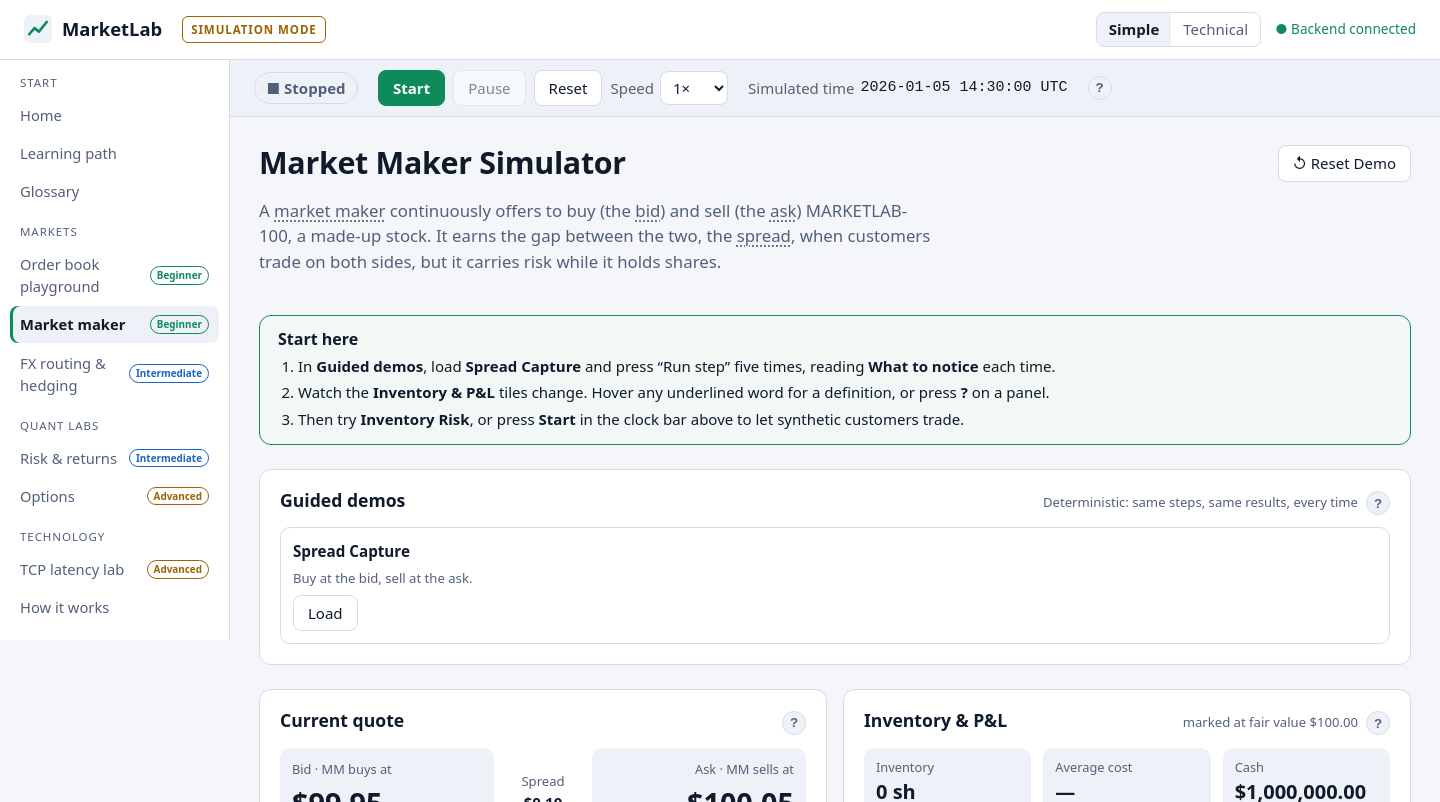
Test: Market maker page › loads a preset, runs a step and shows what to notice
Click the button "Load" at coordinates (325, 613), box 293,595 -> 358,631
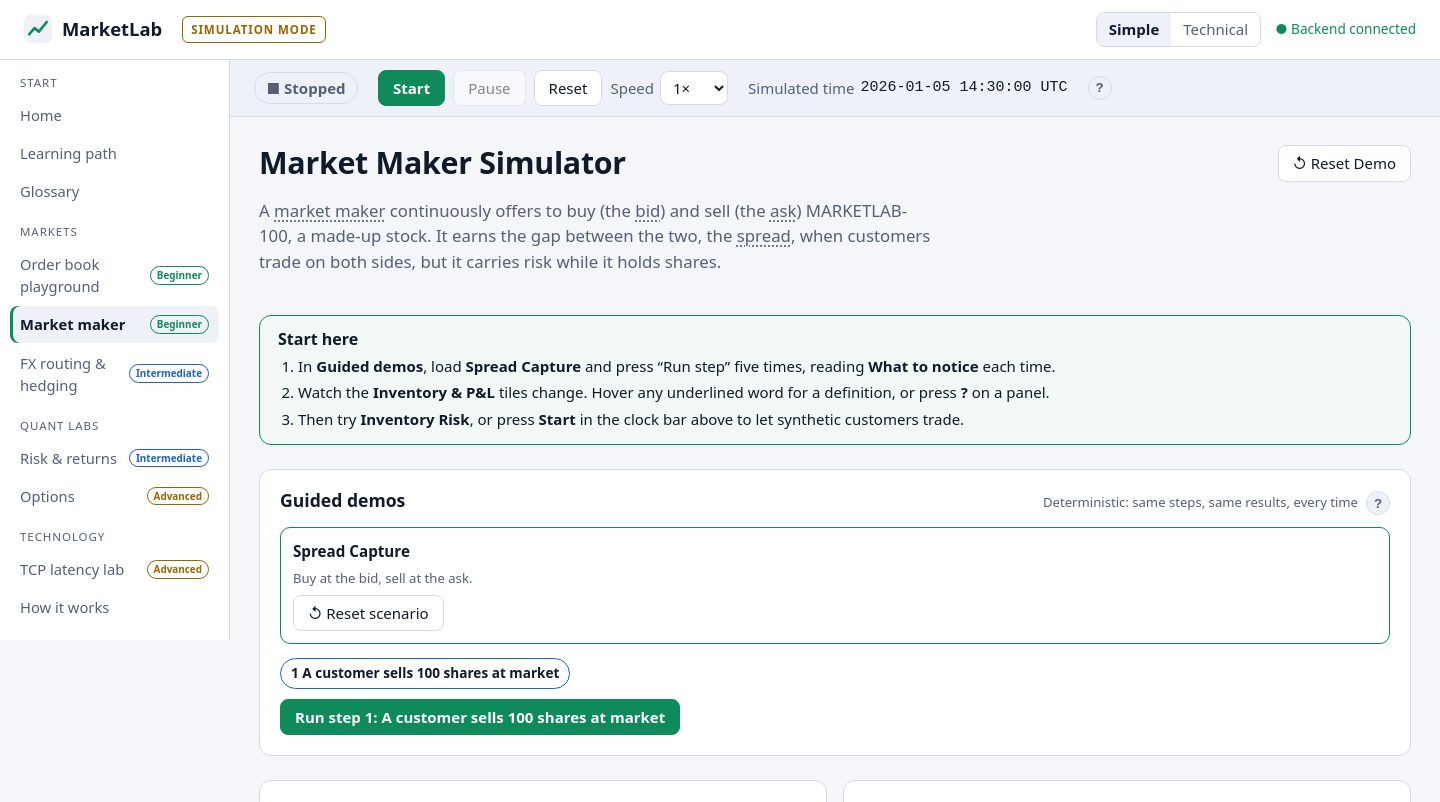
Click the button "Run step 1: A customer sells 100 shares at market" at coordinates (480, 717), box 280,699 -> 680,735
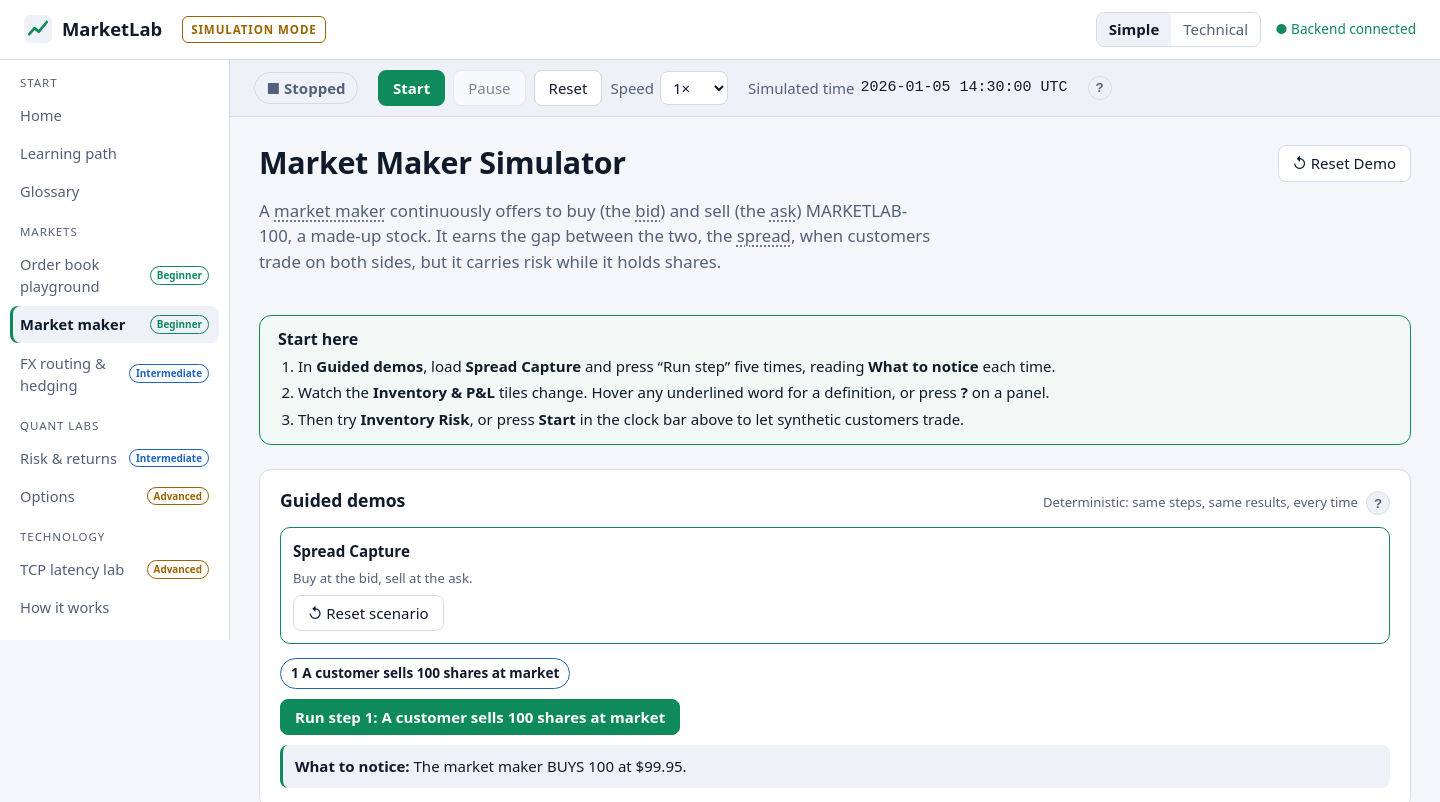
Now the text "What to notice: The market maker BUYS 100 at $99.95." is shown, box 280,745 -> 1390,788
